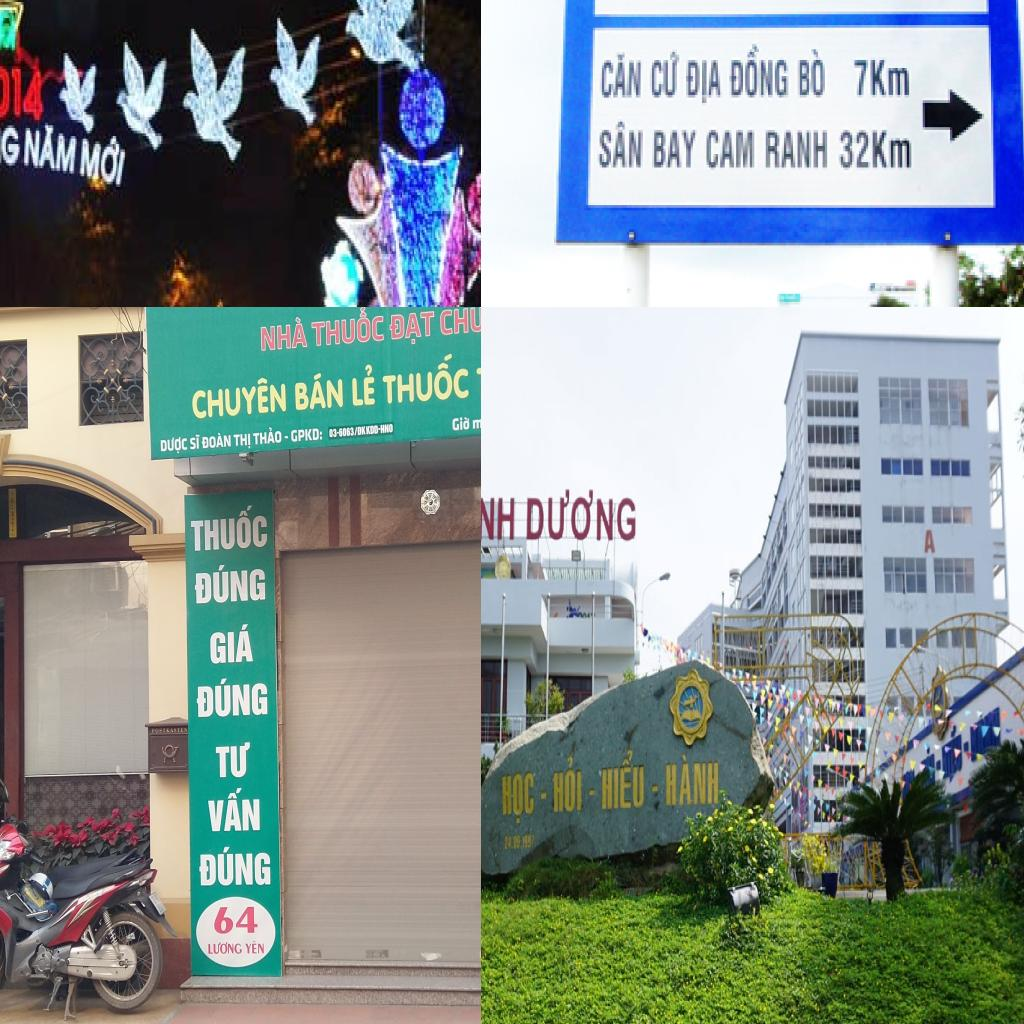text: (524, 486, 638, 546), (380, 352, 471, 406), (191, 373, 289, 422), (189, 503, 270, 555), (21, 117, 81, 187), (600, 746, 660, 813), (727, 41, 791, 103), (198, 839, 272, 887), (840, 127, 914, 173), (0, 55, 46, 128), (193, 559, 266, 605), (196, 672, 269, 718), (307, 307, 383, 348), (665, 753, 720, 809), (763, 130, 832, 173), (205, 784, 263, 833), (500, 768, 549, 826), (552, 752, 596, 816), (852, 55, 914, 100), (597, 119, 645, 173), (704, 127, 759, 173), (597, 52, 645, 103), (652, 127, 704, 173), (291, 368, 343, 413), (481, 481, 517, 545), (254, 316, 310, 354), (208, 621, 254, 665), (686, 58, 725, 108), (389, 307, 437, 347), (652, 46, 684, 100), (795, 46, 827, 100), (214, 736, 253, 778), (212, 902, 260, 936), (437, 307, 481, 338), (0, 117, 21, 178), (350, 362, 376, 407), (328, 423, 394, 440), (159, 434, 189, 458), (200, 430, 232, 450), (252, 425, 282, 446), (290, 426, 323, 444), (207, 942, 243, 955), (923, 527, 937, 557), (451, 413, 470, 434), (234, 431, 252, 452), (244, 939, 266, 955), (150, 726, 188, 734), (189, 432, 200, 452), (471, 411, 481, 431)
